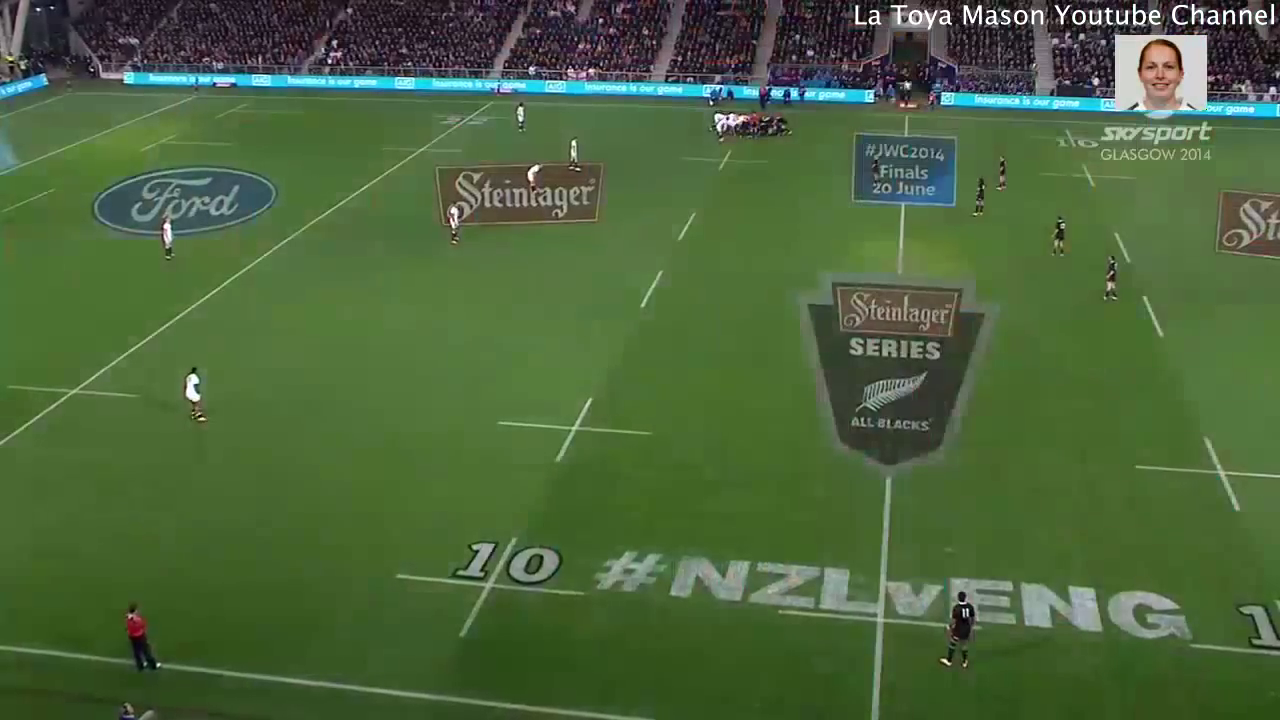10_metre: (389, 531, 591, 644), (487, 394, 653, 472), (1129, 430, 1280, 515), (1183, 592, 1280, 663), (1034, 160, 1141, 194), (679, 146, 773, 176), (1023, 124, 1118, 153)
player: (937, 587, 979, 680), (179, 364, 209, 429), (1096, 250, 1124, 305), (441, 196, 465, 249), (521, 157, 549, 200), (1047, 212, 1073, 258), (967, 170, 987, 222), (157, 212, 176, 261), (562, 134, 582, 177), (510, 99, 530, 136), (993, 152, 1010, 195), (867, 152, 885, 192), (773, 115, 794, 136), (715, 114, 730, 143), (707, 111, 725, 132), (750, 109, 759, 144)
scrum: (705, 110, 803, 140)
